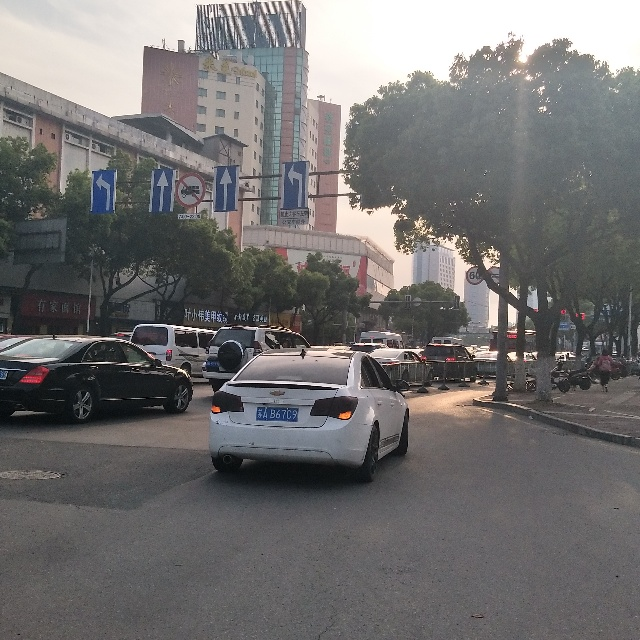left: (278, 160, 312, 213), (87, 166, 119, 213)
straight: (211, 164, 237, 219), (150, 165, 177, 214)
